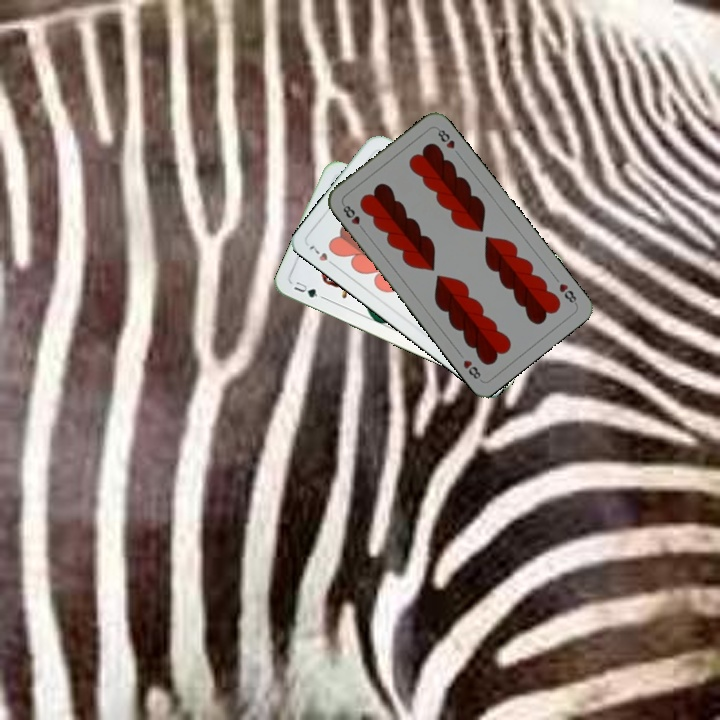GU: (290, 276, 320, 300)
H7: (305, 240, 339, 270)
H8: (338, 200, 368, 234), (555, 279, 580, 307)
